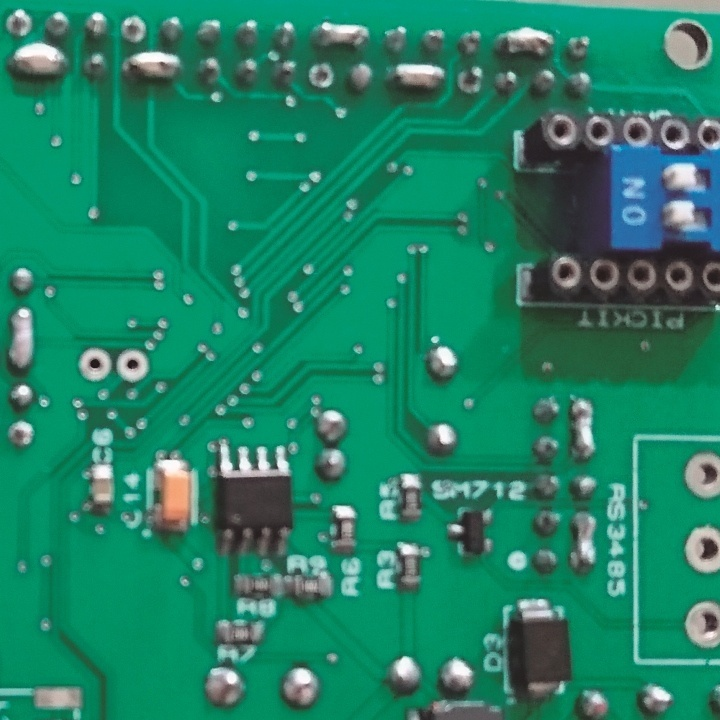F: (683, 521, 720, 574), (681, 450, 720, 500), (682, 599, 720, 648), (113, 346, 151, 383), (76, 345, 111, 383), (455, 61, 484, 99), (3, 7, 34, 39), (7, 419, 36, 452), (119, 15, 150, 43), (308, 60, 333, 92)
P: (8, 43, 72, 80), (386, 58, 447, 96), (123, 47, 182, 86), (496, 23, 556, 60), (8, 305, 36, 379), (313, 18, 373, 52), (569, 395, 598, 463), (569, 509, 597, 575)
